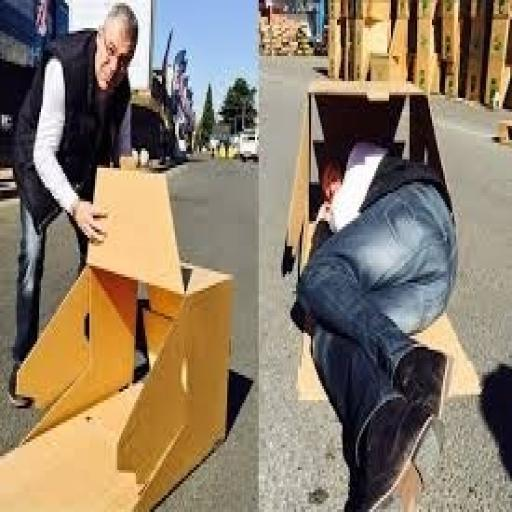sleeping: (288, 137, 460, 509), (7, 0, 145, 408)
